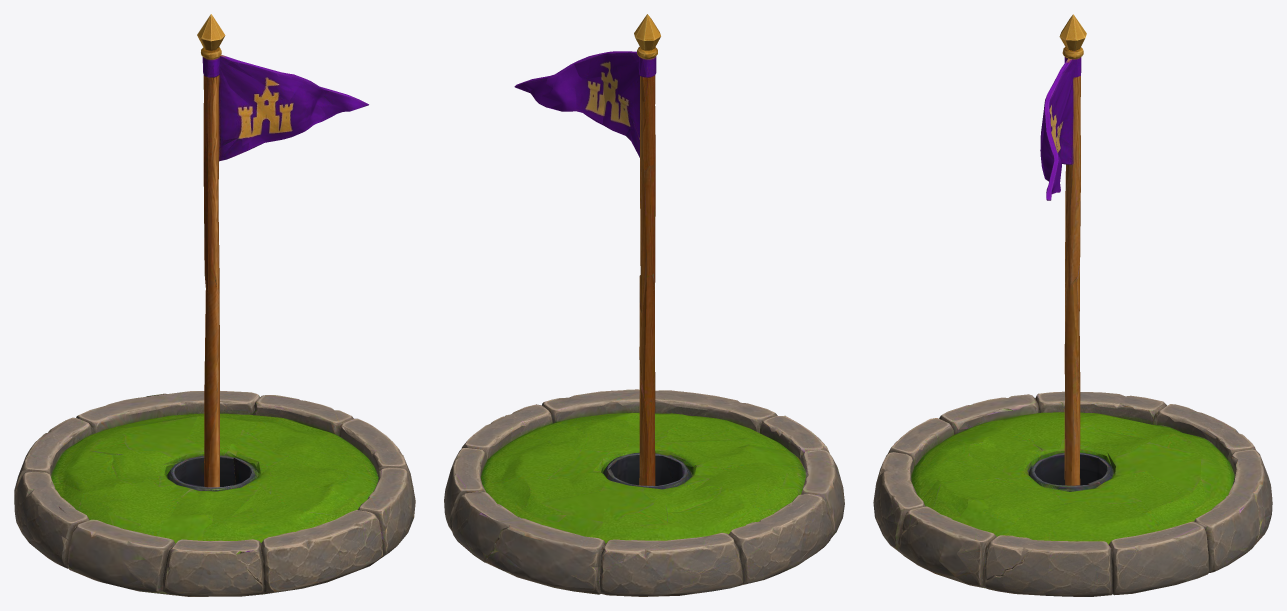
File: golf-cup.glb
3 renders of one model, left to right at view 1: azimuth 30°, elevation 25°; view 2: azimuth 150°, elevation 25°; view 3: azimuth 270°, elevation 25°, orthographic.
Parts seen in each view (by area): view 1: output_unwrapped; view 2: output_unwrapped; view 3: output_unwrapped.
Boxes of the visible parts, x1,y1,x2,y2 form: output_unwrapped: [14, 14, 415, 596]; output_unwrapped: [444, 14, 844, 596]; output_unwrapped: [873, 14, 1272, 596].
Size of the model in its own units: 1.38 by 1.9 by 1.38.
1 material, 1 textured.
